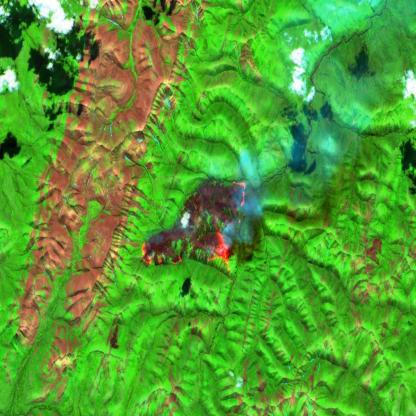fire: (140, 179, 249, 276)
